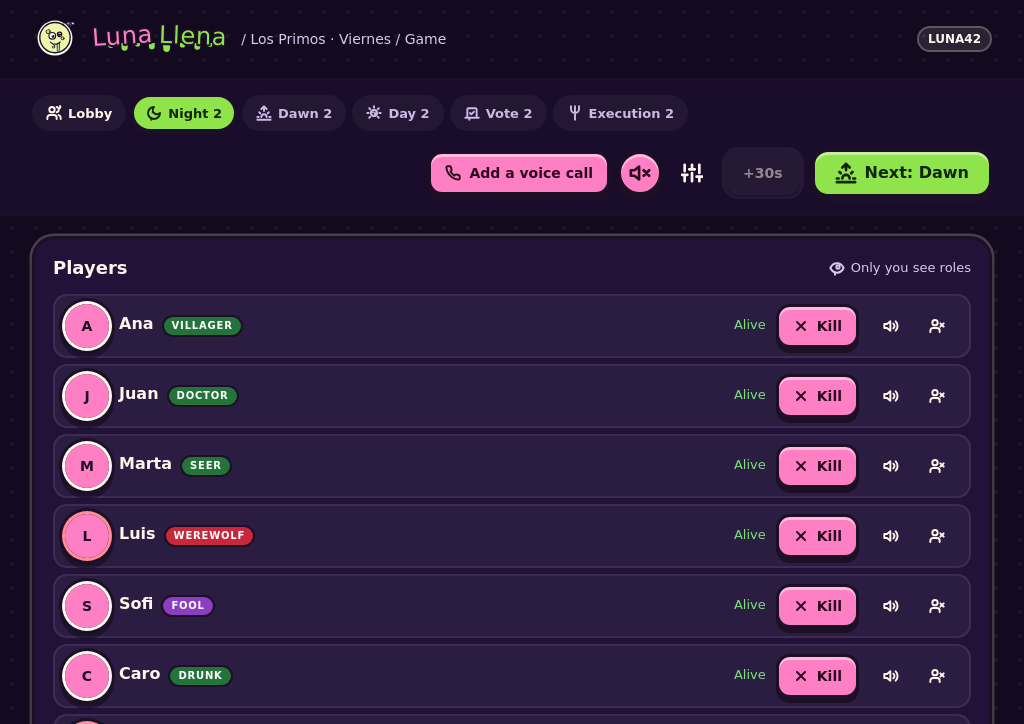
Test: NarratorDashboard › shows a command failure kept by the store
Click the button "Next: Dawn" at (902, 173), box [812, 149, 992, 197]
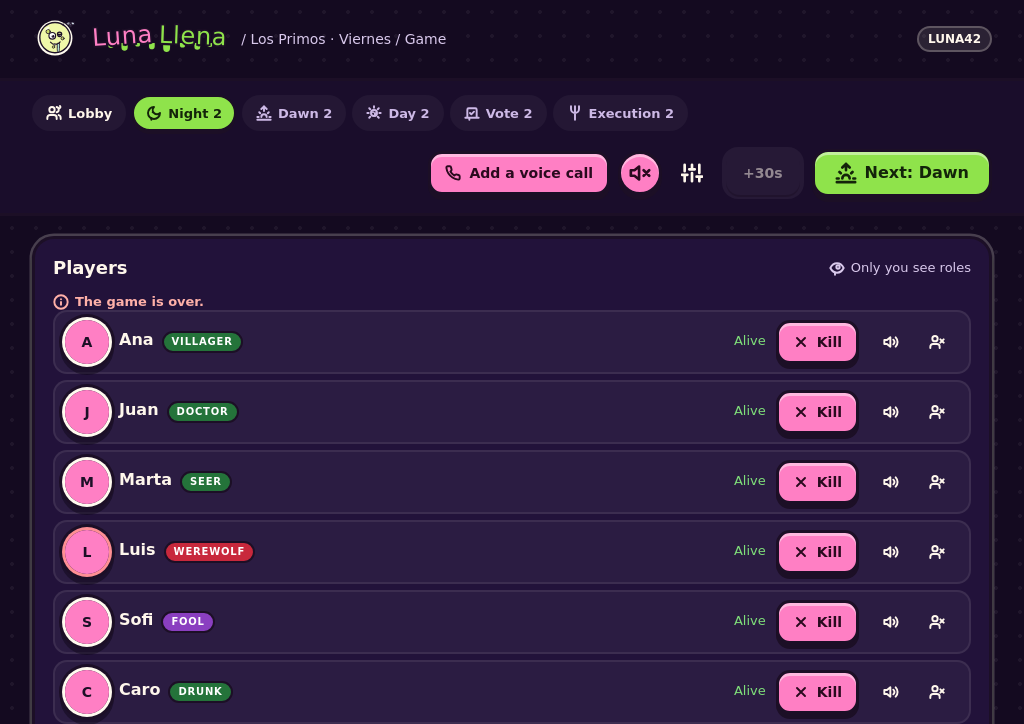
Check: the message with class "err" reads "The game is over.", box [75, 294, 204, 309]
